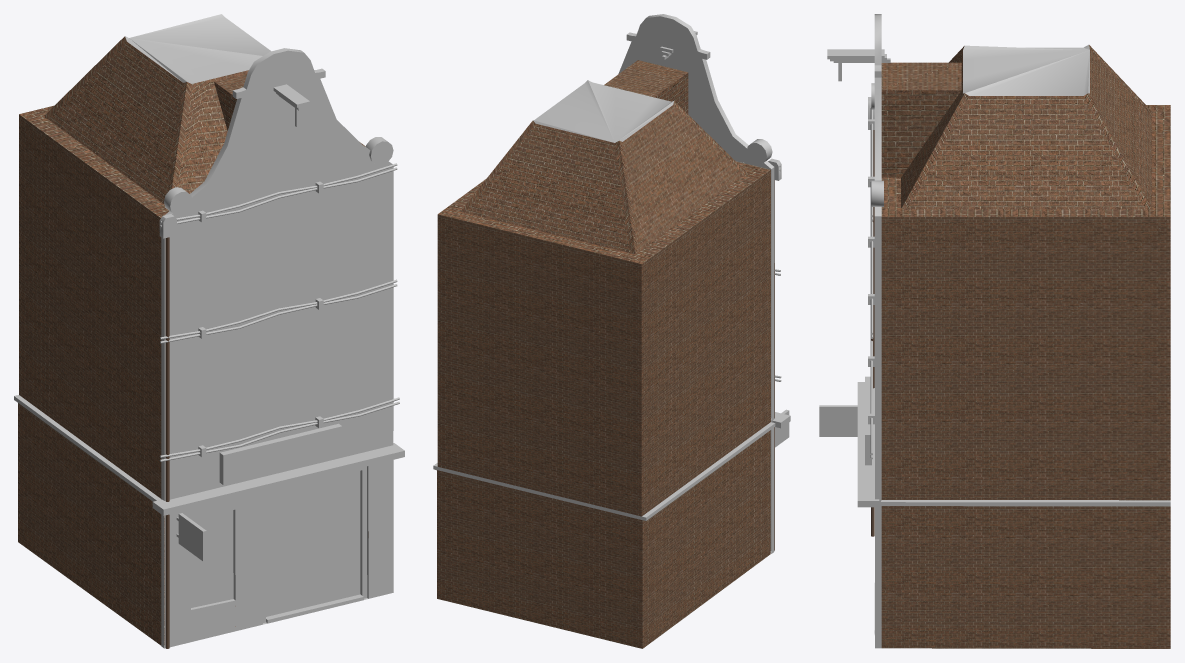
File: ams_house4.fbx
The picture shows the model from 3 angles, left to right: view 1: azimuth 30°, elevation 25°; view 2: azimuth 150°, elevation 25°; view 3: azimuth 270°, elevation 25°; orthographic projection. The views are drawn at different scales.
Visible parts, largest first — view 1: Default_Layer; view 2: Default_Layer; view 3: Default_Layer.
Part boxes in pixels (x1=…): Default_Layer: x1=14, y1=14, x2=404, y2=648; Default_Layer: x1=433, y1=14, x2=790, y2=648; Default_Layer: x1=819, y1=14, x2=1170, y2=648.
Size of the model in its own units: 442 by 990 by 549.
